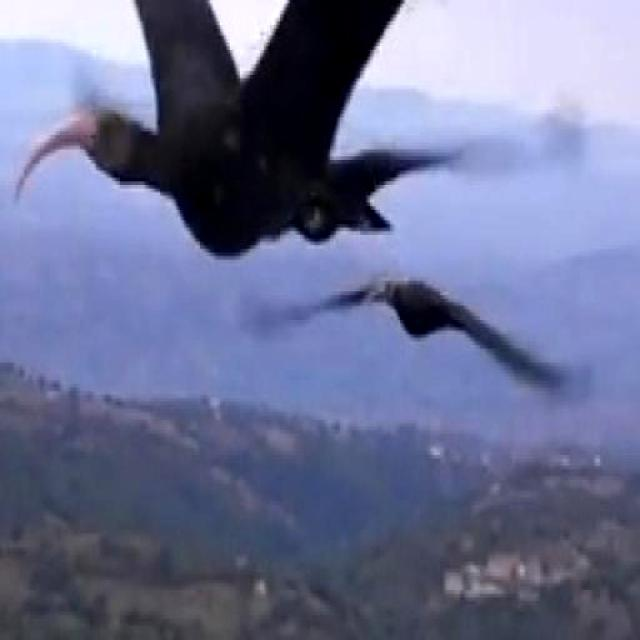airplane: (0, 0, 640, 230)
